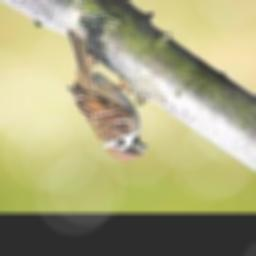Sparrow: (67, 30, 147, 160)
